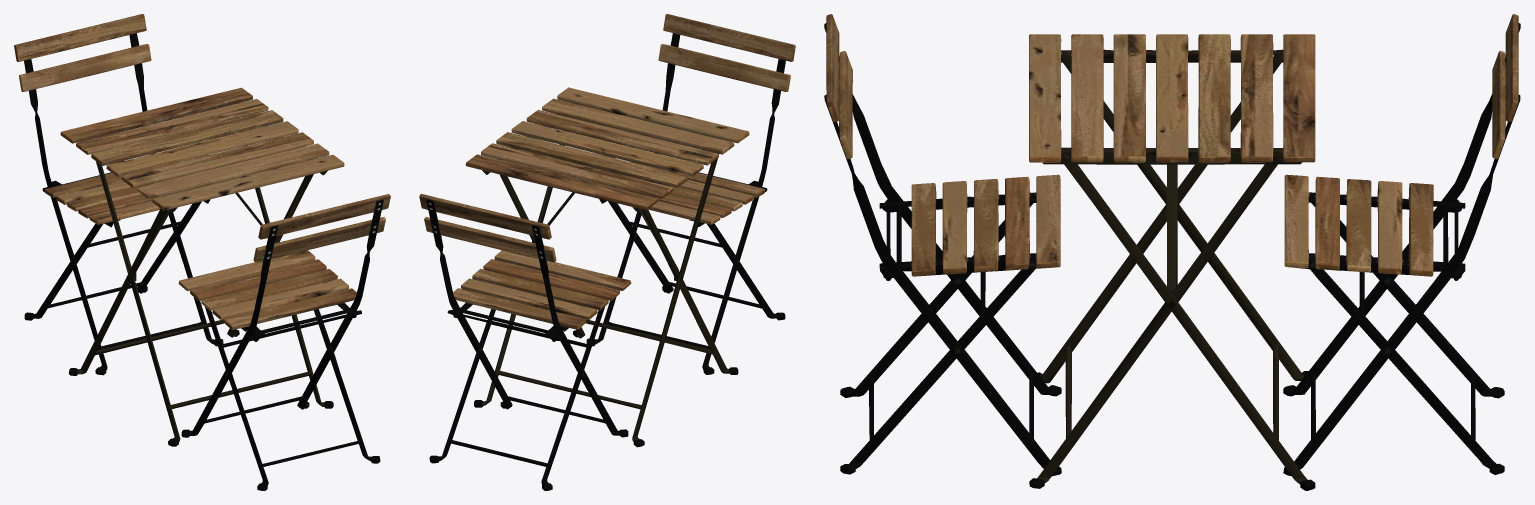
File: 04 - TÄRNÖ - 戶外餐桌椅組，黑色淺棕色 IKEA 線上購物.glb
The picture shows the model from 3 angles, left to right: view 1: azimuth 30°, elevation 25°; view 2: azimuth 150°, elevation 25°; view 3: azimuth 270°, elevation 25°; orthographic projection. The views are drawn at different scales.
Visible parts, largest first — view 1: ProcessedMeshNode; view 2: ProcessedMeshNode; view 3: ProcessedMeshNode.
Part boxes in pixels (box(x1,y1,x2,y2)): ProcessedMeshNode: box(14, 14, 390, 490); ProcessedMeshNode: box(419, 14, 795, 490); ProcessedMeshNode: box(824, 14, 1520, 490).
Size of the model in its own units: 0.5504 by 0.7846 by 1.31.
Materials: 1 (1 with a texture image).
